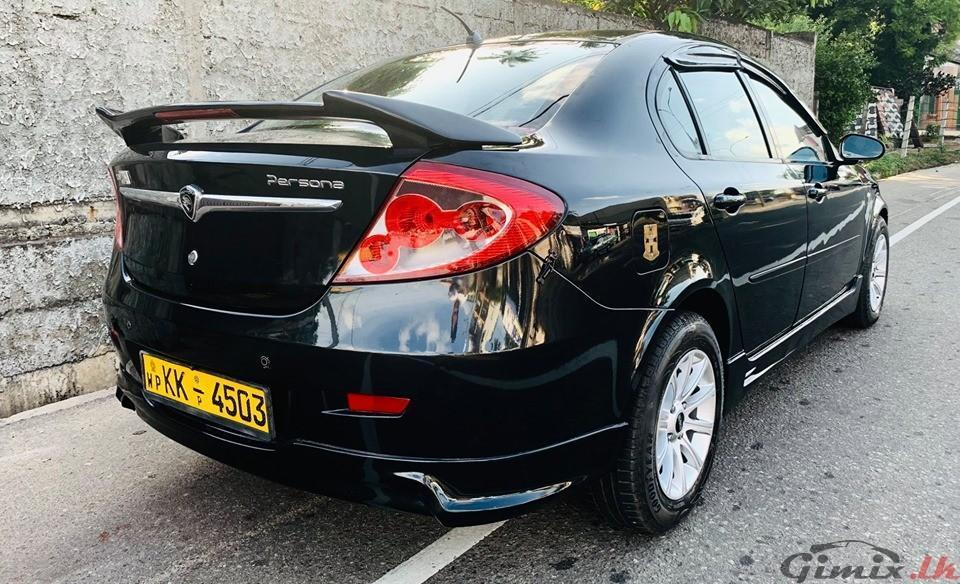license-plate: (142, 352, 268, 434)
